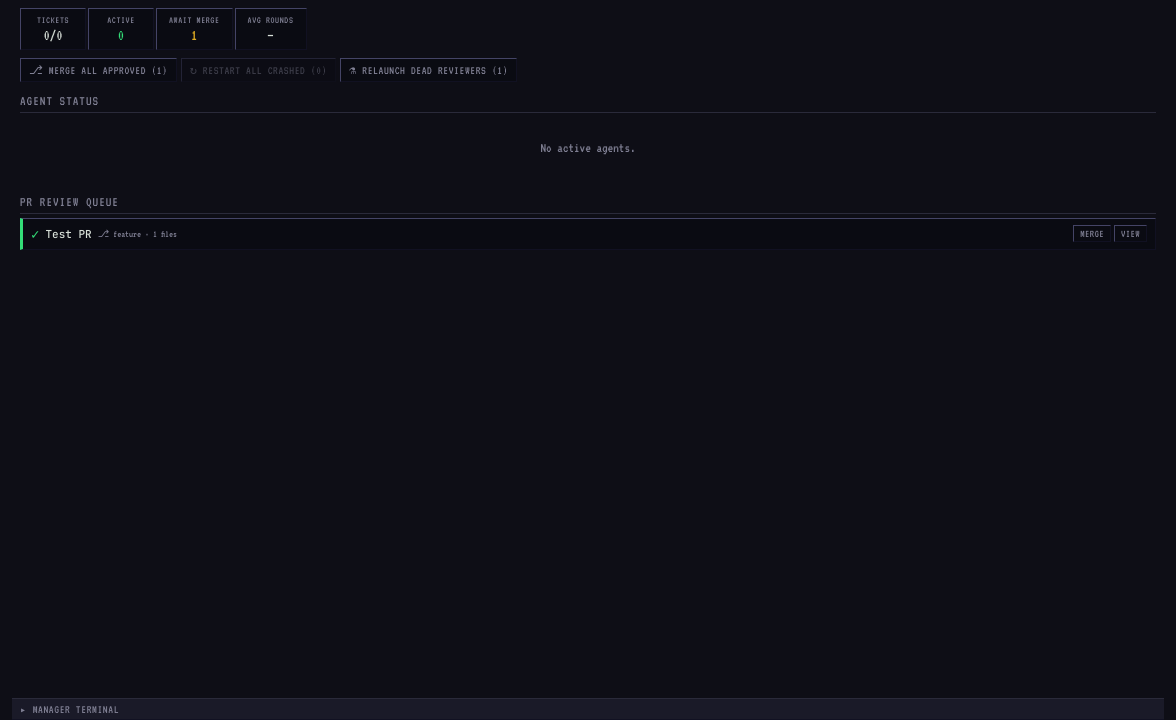
Test: ManagerView › PR Review Queue › shows MERGING text while merge is in progress
Step 1. Click the button "MERGE" → (1092, 234), box [1073,225,1111,242]
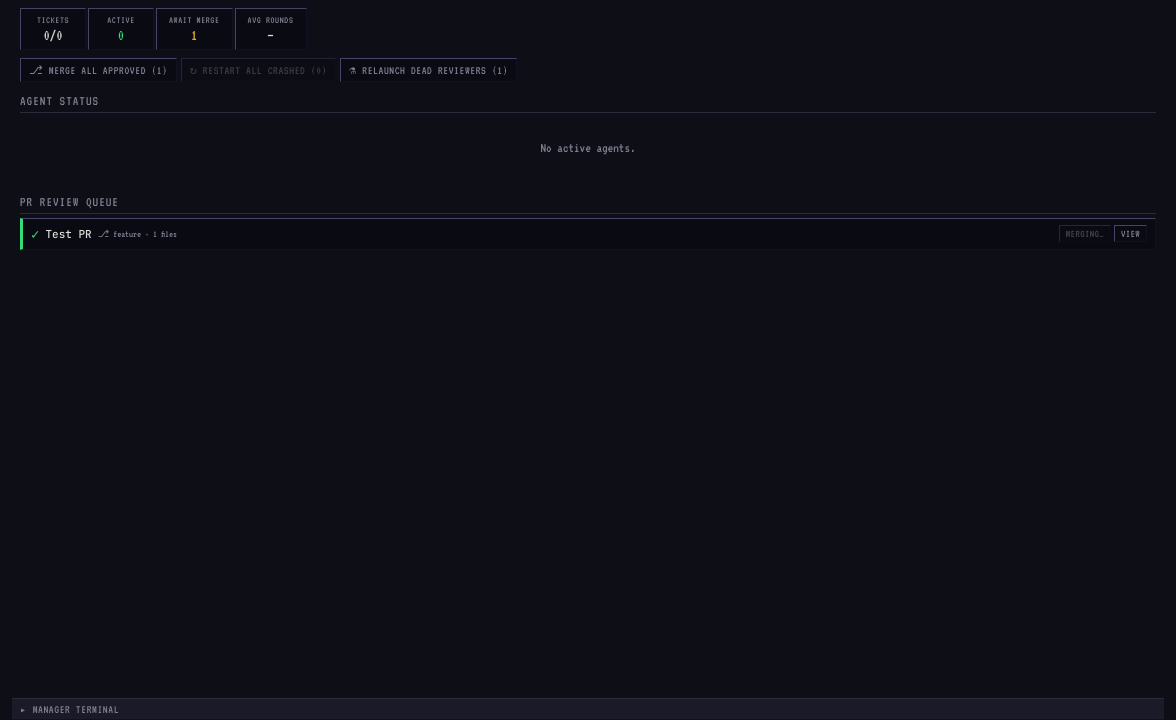
Expected: the button "MERGING…" is shown, [1059,225,1111,242]
